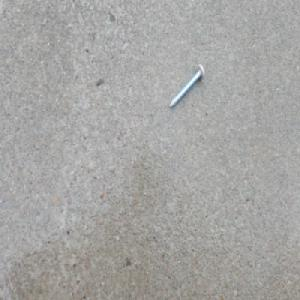Nail: (168, 63, 205, 112)
